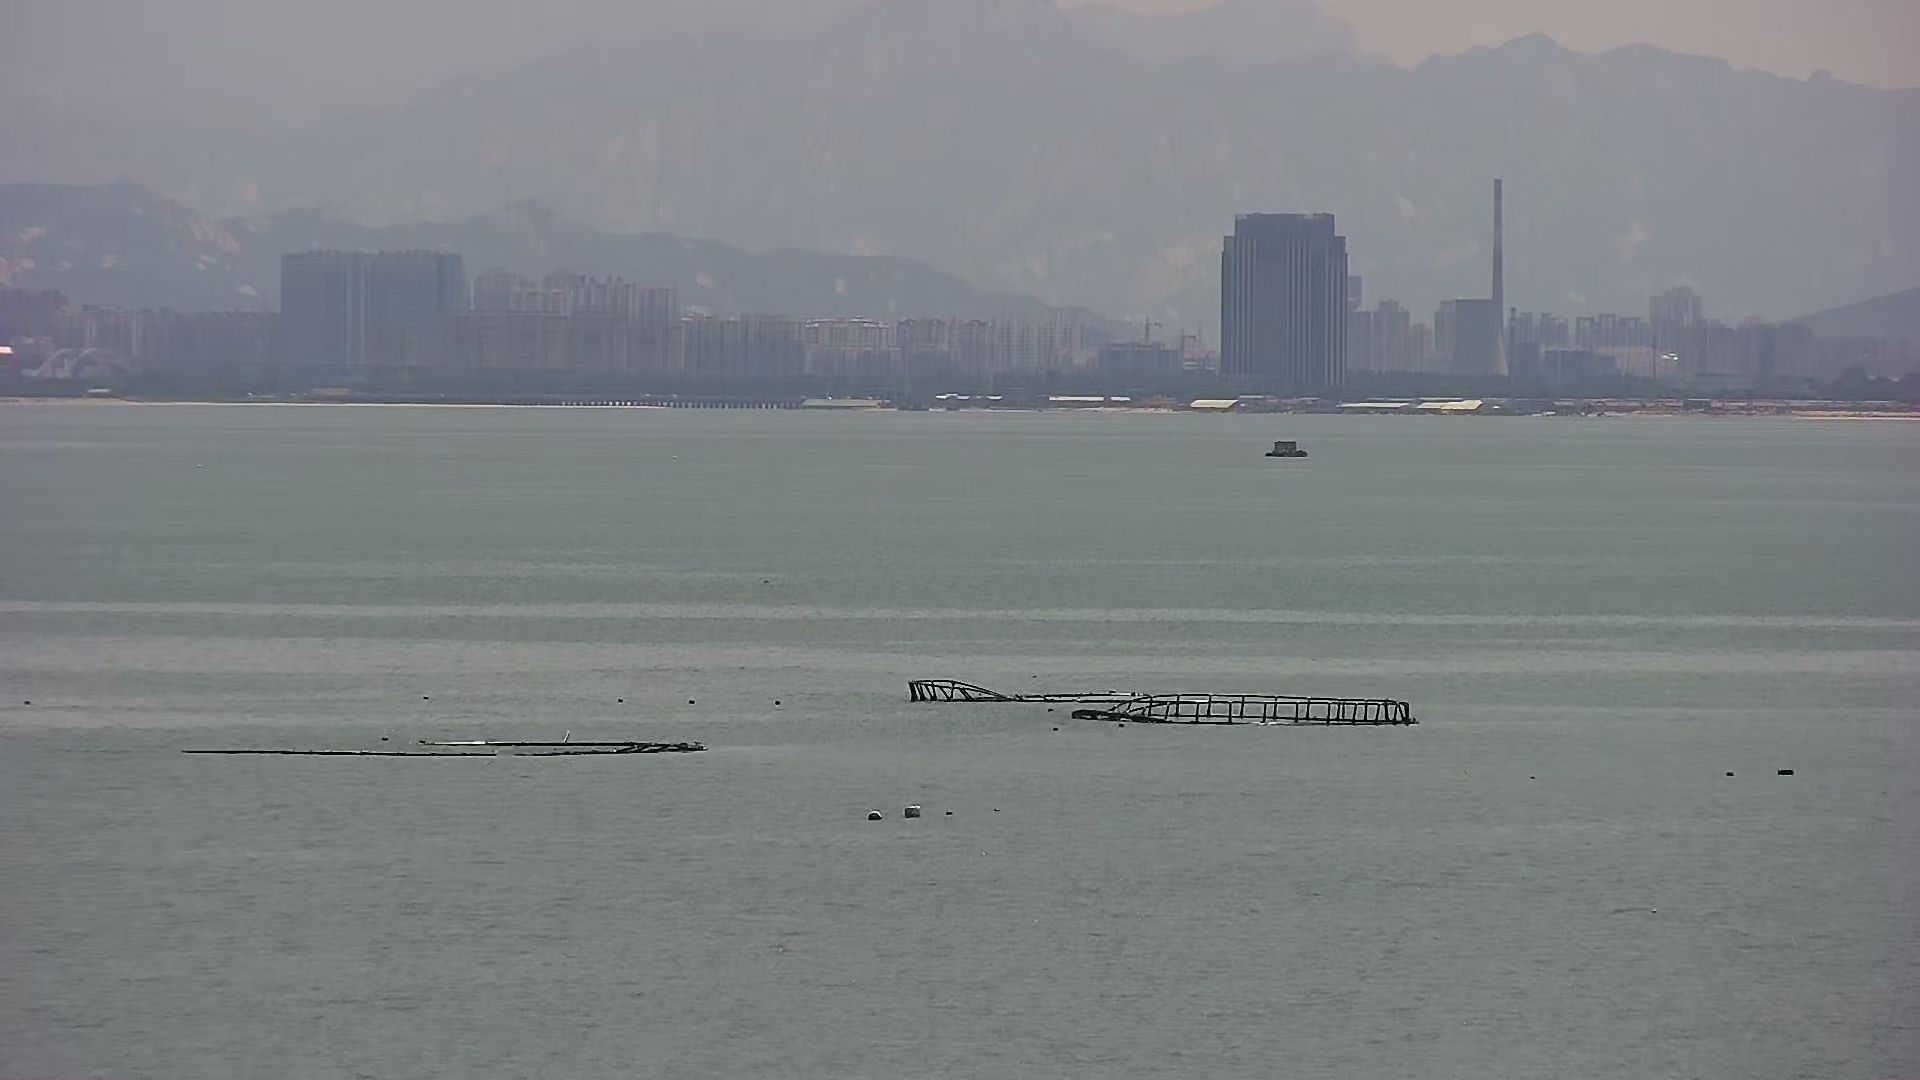ball: (901, 802, 924, 823), (862, 800, 881, 827)
platform: (1265, 436, 1315, 456)
rubbish: (906, 679, 1422, 731), (175, 737, 709, 757)
